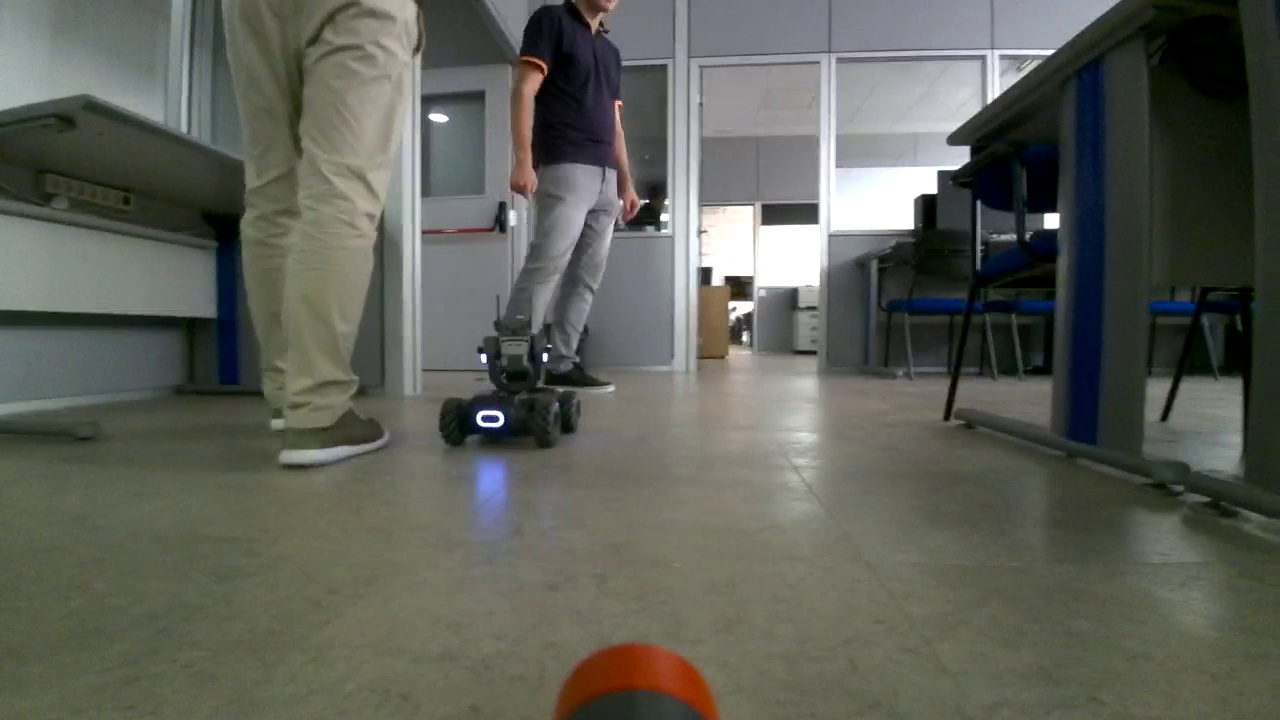robot: (437, 290, 582, 444)
